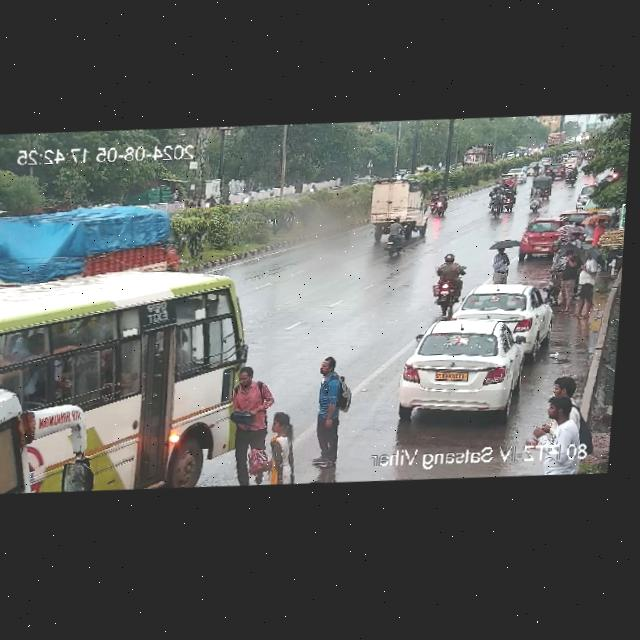bus: (0, 270, 247, 499)
car: (395, 317, 531, 421), (452, 279, 552, 348), (518, 218, 562, 256), (527, 173, 552, 202), (493, 172, 519, 185), (508, 166, 527, 182), (545, 162, 564, 177), (413, 164, 431, 175)
motorcycle: (424, 252, 465, 314), (381, 213, 409, 258), (425, 189, 449, 217), (527, 183, 543, 214), (488, 191, 504, 213), (204, 192, 218, 212), (240, 189, 257, 204), (308, 181, 318, 193)
person: (224, 363, 280, 487), (302, 352, 355, 470), (535, 374, 595, 464), (263, 409, 299, 485), (573, 247, 602, 318), (554, 248, 577, 311), (544, 237, 564, 292), (488, 246, 513, 283)
truck: (0, 197, 173, 289), (357, 175, 429, 244), (461, 141, 493, 168), (546, 131, 565, 148)
